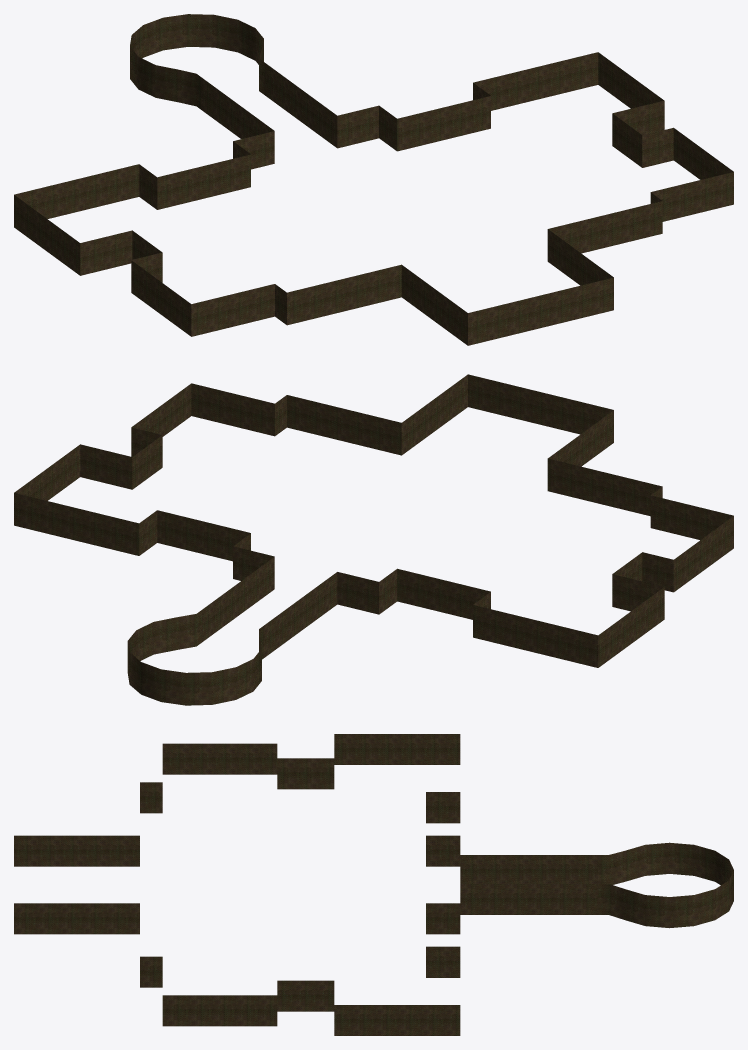
The model's file is USS Columbia Exterior.fbx.
3 views of the same model, one above another, from view 1: azimuth 30°, elevation 25°; view 2: azimuth 150°, elevation 25°; view 3: azimuth 270°, elevation 25° (orthographic). The views are drawn at different scales.
Parts seen in each view (by area): view 1: Starship Exterior; view 2: Starship Exterior; view 3: Starship Exterior.
Boxes of the visible parts, left/top/right/bottom form: Starship Exterior: left=14, top=14, right=733, bottom=345; Starship Exterior: left=14, top=374, right=733, bottom=705; Starship Exterior: left=14, top=734, right=733, bottom=1035.
Bounding box in the file's own units: 5600 × 300 × 6291.
